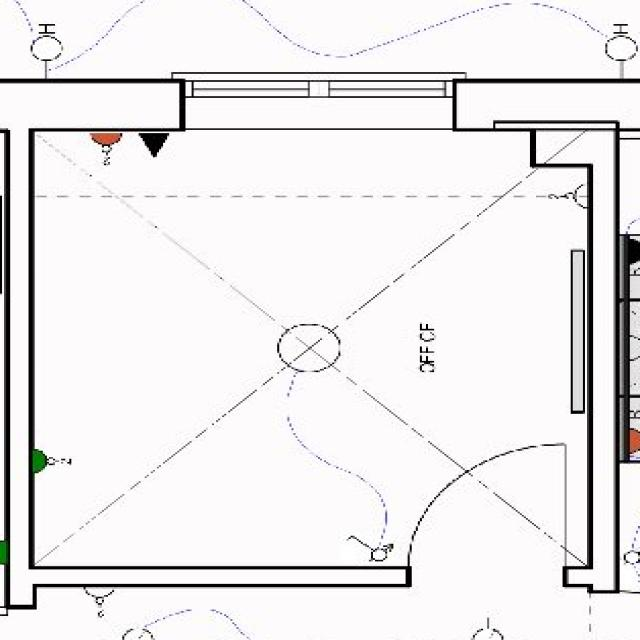Doors: (402, 439, 576, 585)
